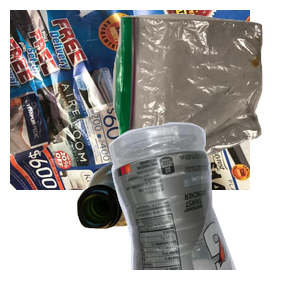glass: (74, 158, 223, 300)
paper: (10, 10, 250, 190)
plastic: (106, 120, 300, 300)
trash: (110, 11, 300, 167)
